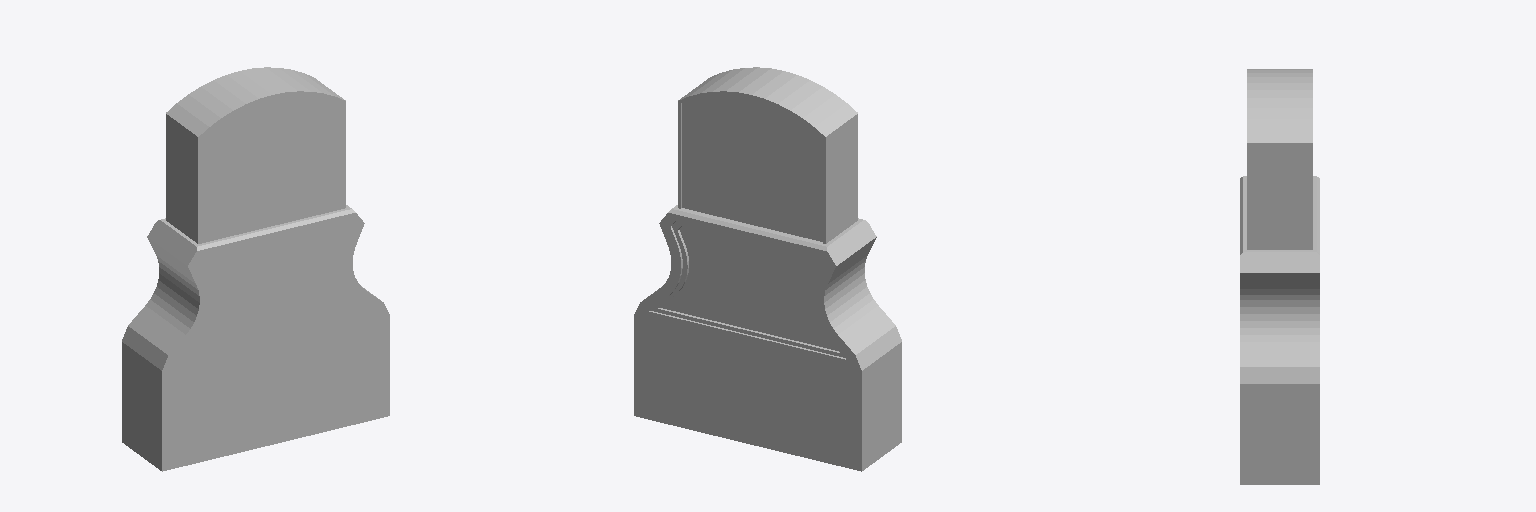
File: headstone.obj
3 renders of one model, left to right at view 1: azimuth 30°, elevation 25°; view 2: azimuth 150°, elevation 25°; view 3: azimuth 270°, elevation 25°, orthographic.
Visible parts, largest first — view 1: Model_Model.001; view 2: Model_Model.001; view 3: Model_Model.001.
Boxes of the visible parts, x1=… form: Model_Model.001: x1=122, y1=67, x2=389, y2=471; Model_Model.001: x1=634, y1=67, x2=901, y2=471; Model_Model.001: x1=1240, y1=69, x2=1319, y2=484.
Size of the model in its own units: 0.9098 by 1.32 by 0.2794.